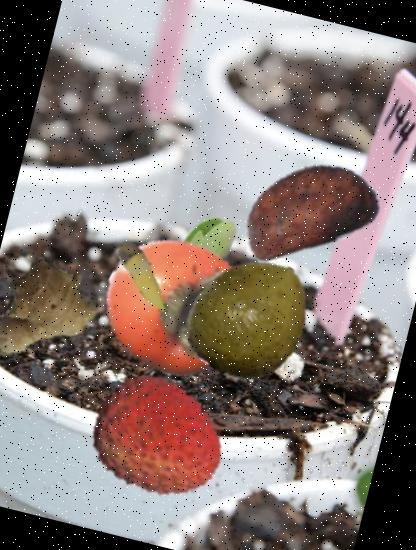Banana: (93, 228, 200, 335)
Chestnut: (224, 122, 396, 294)
Ginger: (0, 247, 112, 384)
Guava: (174, 240, 328, 394)
Kaki: (87, 219, 266, 398)
Lychee: (79, 360, 240, 522)
